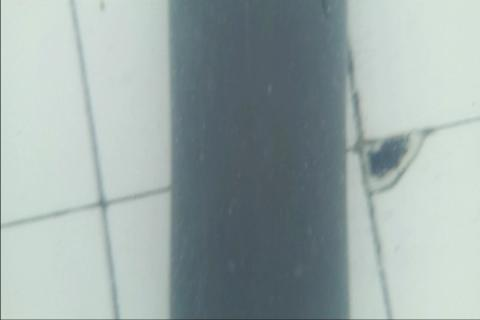keretakan: (319, 0, 332, 27)
